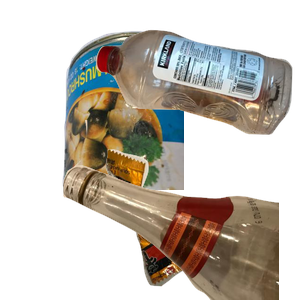glass: (60, 120, 300, 300)
metal: (60, 28, 300, 208)
plastic: (93, 27, 300, 154)
trash: (103, 147, 300, 300)
